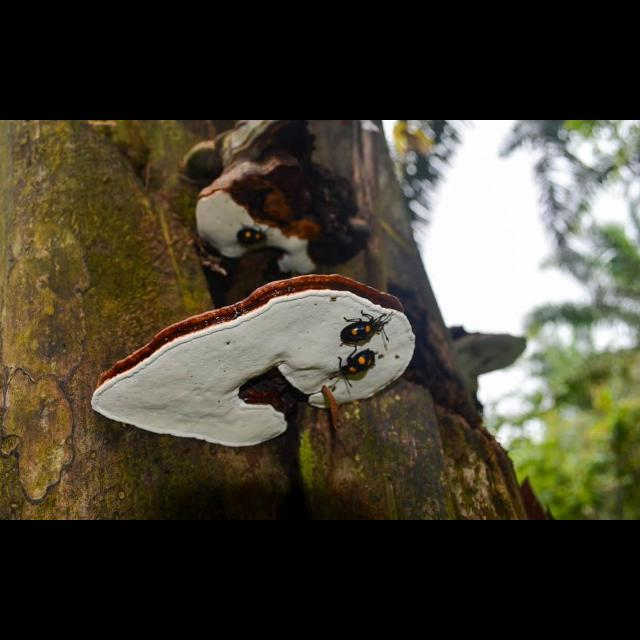ganoderma: (91, 273, 420, 450), (195, 155, 371, 278), (451, 326, 530, 379)
